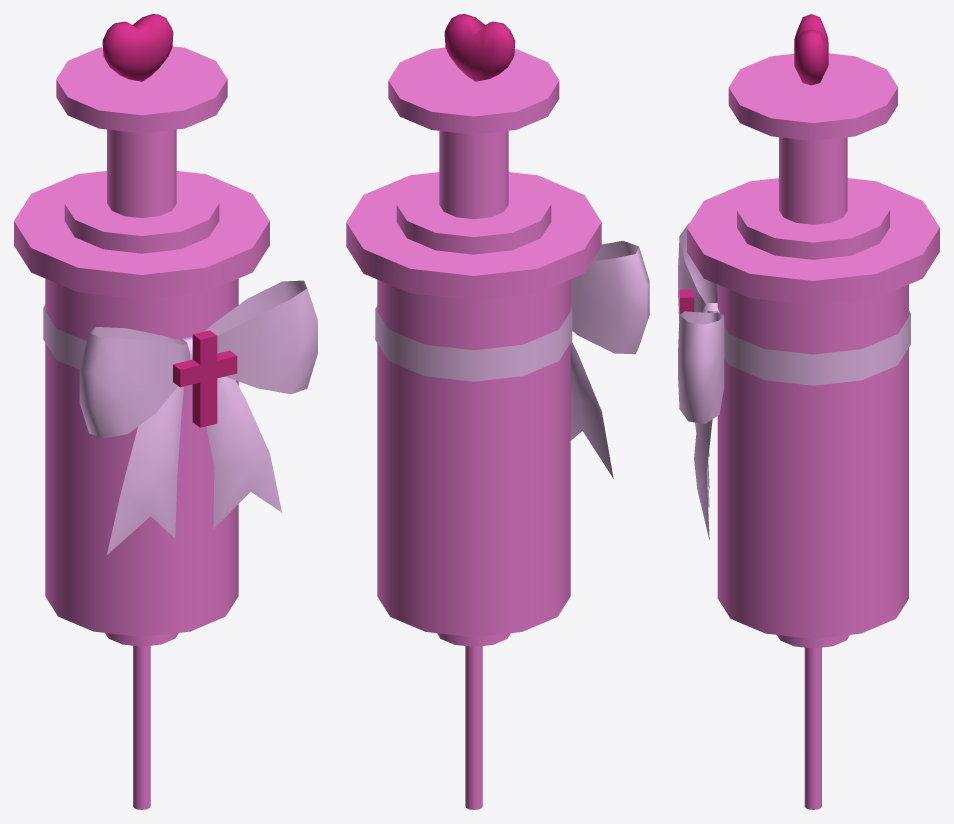
File: syringe.fbx
3 views of the same model, side by side, from view 1: azimuth 30°, elevation 25°; view 2: azimuth 150°, elevation 25°; view 3: azimuth 270°, elevation 25° (orthographic).
Visible parts, largest first — view 1: syringe; view 2: syringe; view 3: syringe.
Boxes of the visible parts, bbox=[...] form: syringe: bbox=[14, 14, 317, 809]; syringe: bbox=[346, 14, 649, 809]; syringe: bbox=[678, 14, 939, 809].
Size of the model in its own units: 5.53 by 17.71 by 5.39.
